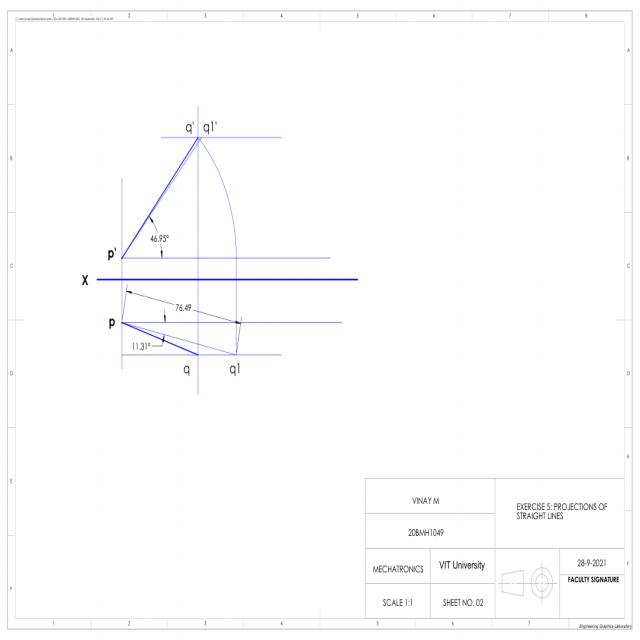Drawings: (71, 96, 379, 403)
